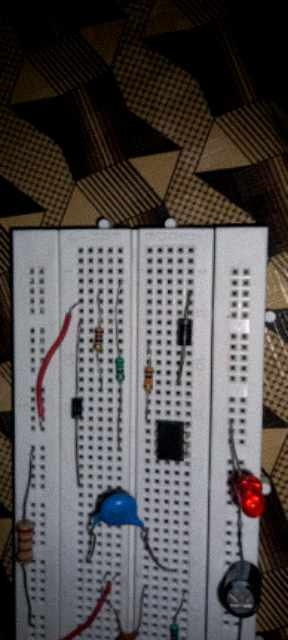capacitor: (92, 490, 145, 537), (222, 558, 262, 620)
resistor: (16, 517, 34, 567), (114, 355, 126, 383), (143, 364, 154, 394), (93, 324, 104, 352), (168, 622, 181, 640)
